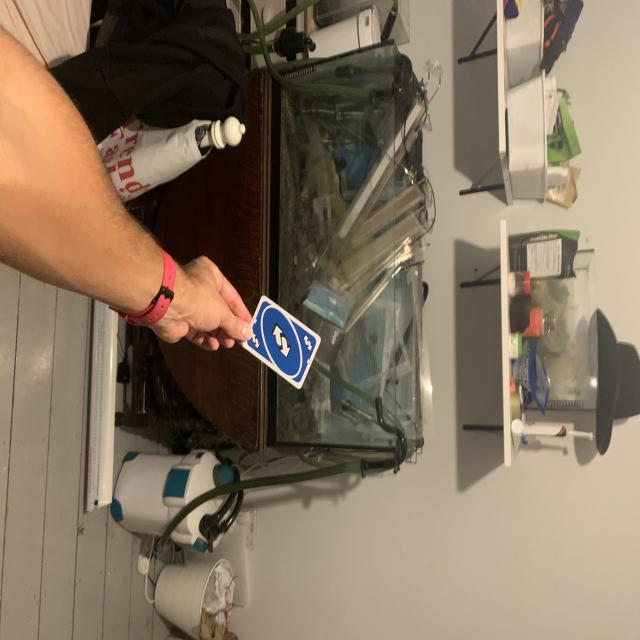lbluerevers-20: (302, 332, 316, 354)
